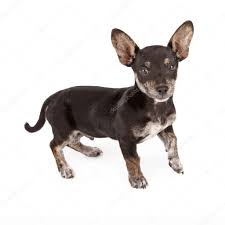chihuahua: (18, 16, 207, 206)
